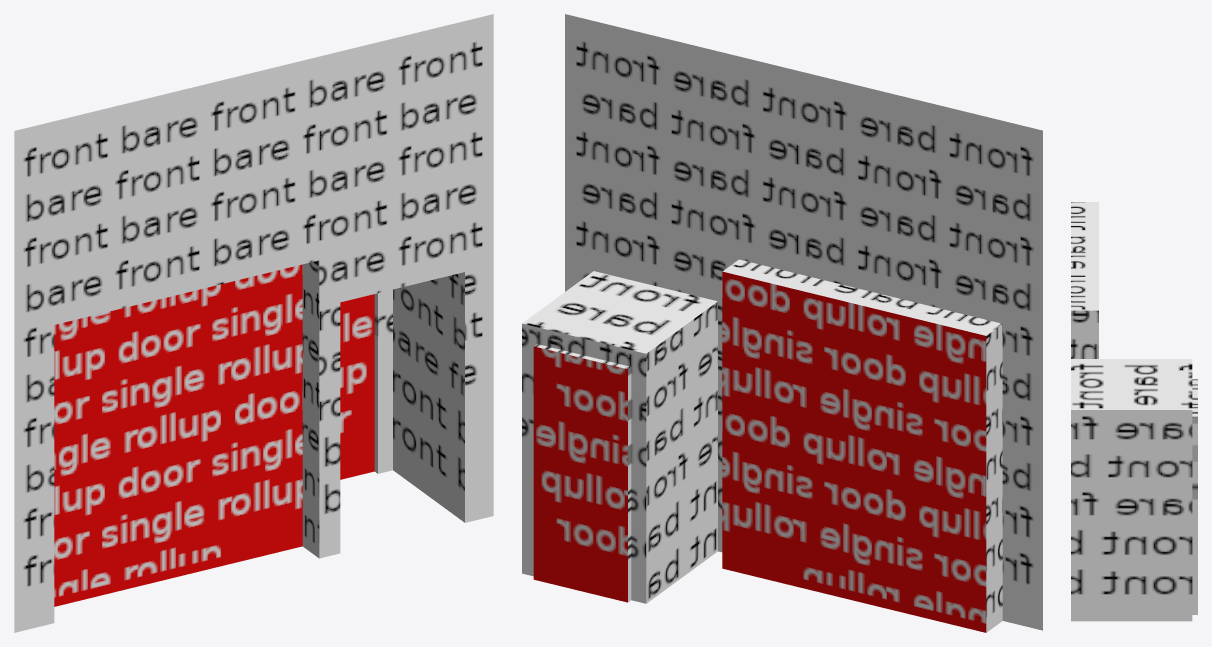
The model's file is door_single_rollup.gltf.
The picture shows the model from 3 angles, left to right: view 1: azimuth 30°, elevation 25°; view 2: azimuth 150°, elevation 25°; view 3: azimuth 270°, elevation 25°; orthographic projection. The views are drawn at different scales.
Parts seen in each view (by area): view 1: door_single_rollup; view 2: door_single_rollup; view 3: door_single_rollup.
Part boxes in pixels (left/top/right/bottom): door_single_rollup: left=14, top=14, right=493, bottom=632; door_single_rollup: left=522, top=14, right=1042, bottom=632; door_single_rollup: left=1071, top=202, right=1197, bottom=621.
Bounding box in the file's own units: 5 × 5 × 1.36.
Materials: 2 (2 with a texture image).
